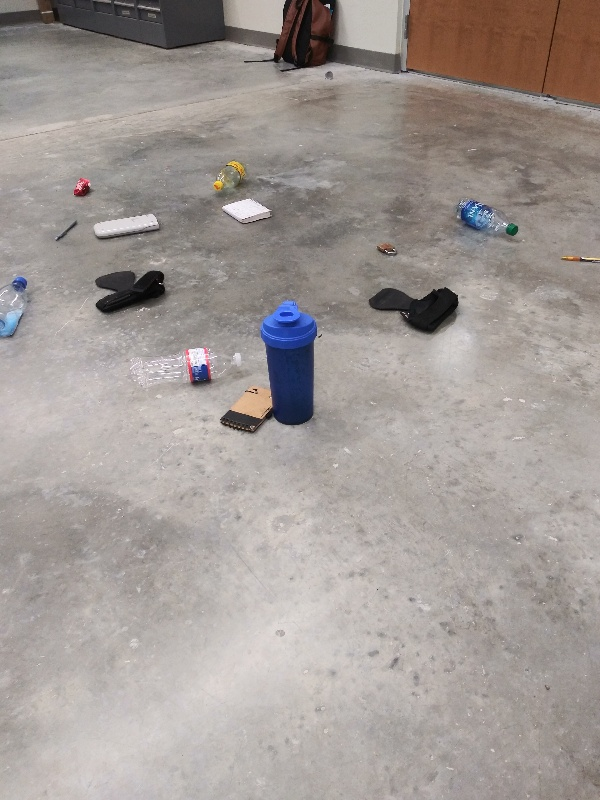bottle: (125, 344, 248, 392), (448, 196, 520, 244), (1, 272, 29, 341), (207, 156, 247, 197)
